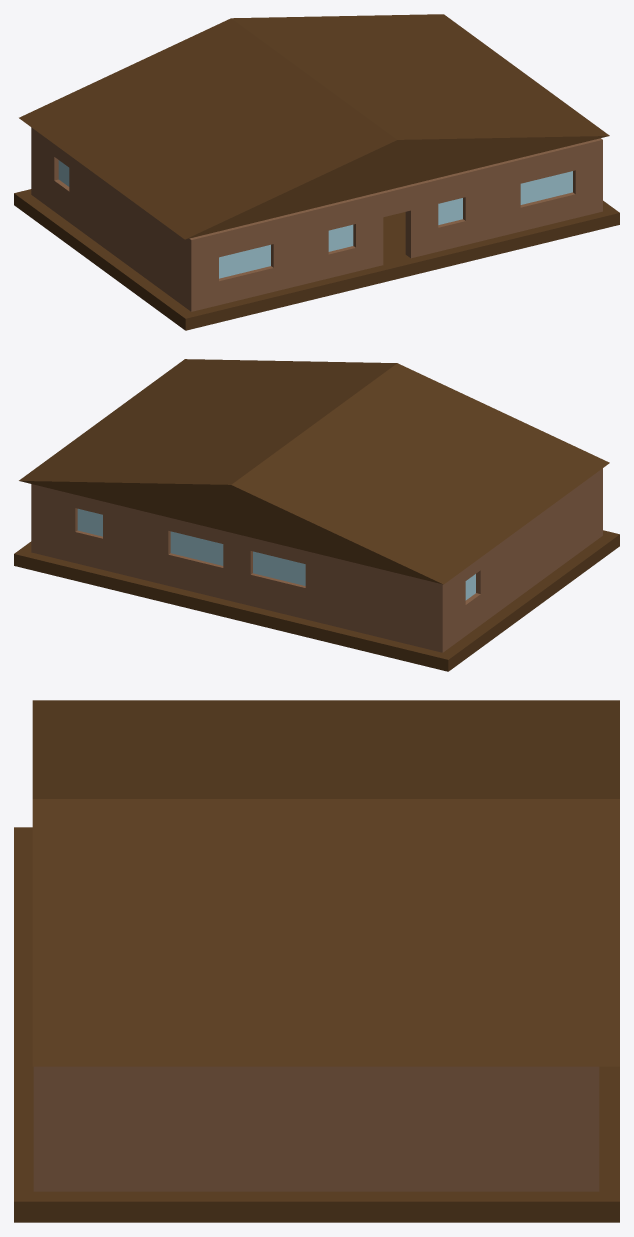
Rendered from camp_house.glb.
3 views of the same model, one above another, from view 1: azimuth 30°, elevation 25°; view 2: azimuth 150°, elevation 25°; view 3: azimuth 270°, elevation 25° (orthographic). The views are drawn at different scales.
Visible parts, largest first — view 1: CampHouseRoof, Cube, Cube.008, Cube.002; view 2: CampHouseRoof, Cube.001, Cube.008, Cube.002; view 3: CampHouseRoof, Cube.003, Cube.008, Cube, Cube.001.
Part boxes in pixels (bbox=[...]): CampHouseRoof: bbox=[19, 14, 609, 239]; Cube: bbox=[186, 138, 602, 311]; Cube.008: bbox=[14, 189, 619, 330]; Cube.002: bbox=[36, 131, 185, 307]; CampHouseRoof: bbox=[19, 359, 609, 584]; Cube.001: bbox=[31, 484, 447, 652]; Cube.008: bbox=[14, 530, 619, 671]; Cube.002: bbox=[448, 472, 597, 648]; CampHouseRoof: bbox=[32, 700, 619, 1066]; Cube.003: bbox=[52, 1066, 580, 1191]; Cube.008: bbox=[14, 827, 619, 1222]; Cube: bbox=[33, 1066, 52, 1191]; Cube.001: bbox=[580, 1066, 599, 1191].
Size of the model in its own units: 19 by 5.6 by 13.
